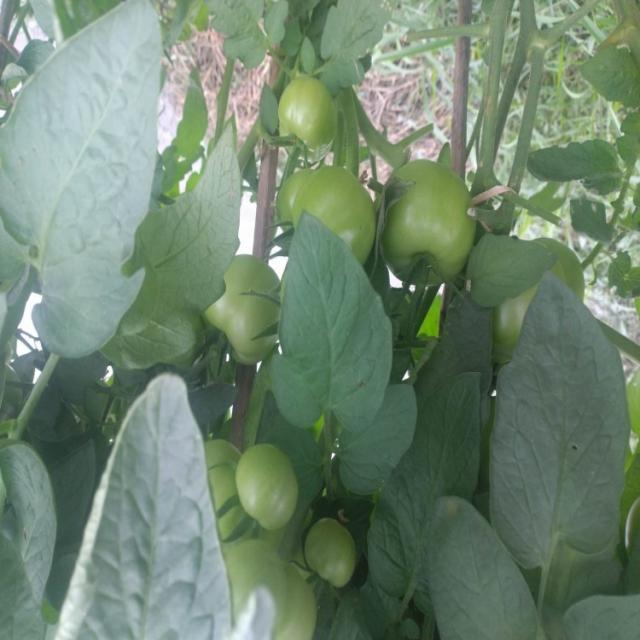tomato: (366, 128, 491, 300), (271, 150, 395, 268), (196, 248, 301, 359), (227, 518, 320, 640), (187, 428, 260, 552), (267, 66, 352, 171), (231, 435, 300, 529), (298, 507, 370, 597)
